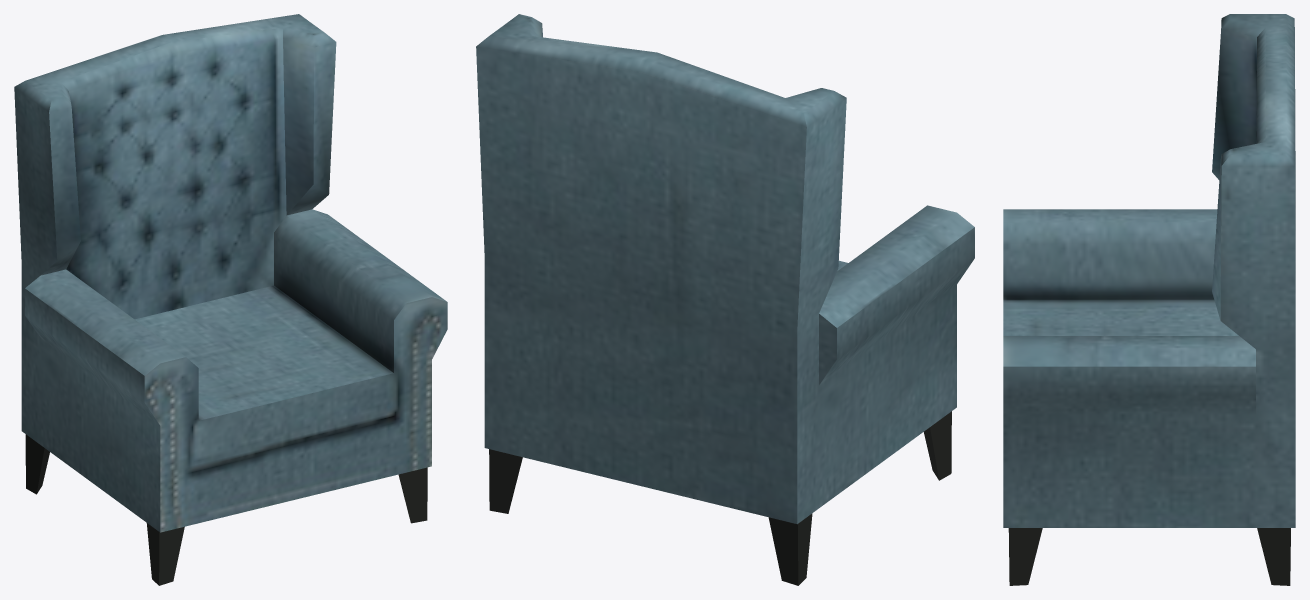
The model's file is Armchair_02-col.glb.
3 views of the same model, side by side, from view 1: azimuth 30°, elevation 25°; view 2: azimuth 150°, elevation 25°; view 3: azimuth 270°, elevation 25° (orthographic). The views are drawn at different scales.
Visible parts, largest first — view 1: Armchair_02-col; view 2: Armchair_02-col; view 3: Armchair_02-col.
Part boxes in pixels (box(x1,y1,x2,y2)): Armchair_02-col: box(14, 14, 447, 585); Armchair_02-col: box(476, 14, 974, 585); Armchair_02-col: box(1003, 14, 1295, 585).
Size of the model in its own units: 1.02 by 1.36 by 0.8086.
Materials: 1 (1 with a texture image).
